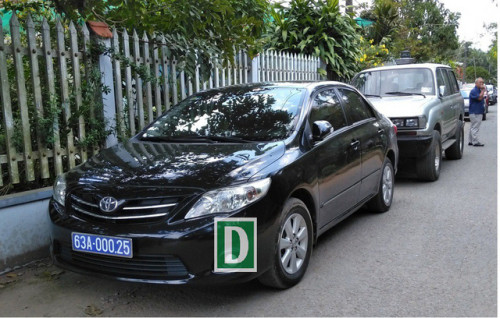plate: (69, 229, 134, 259)
